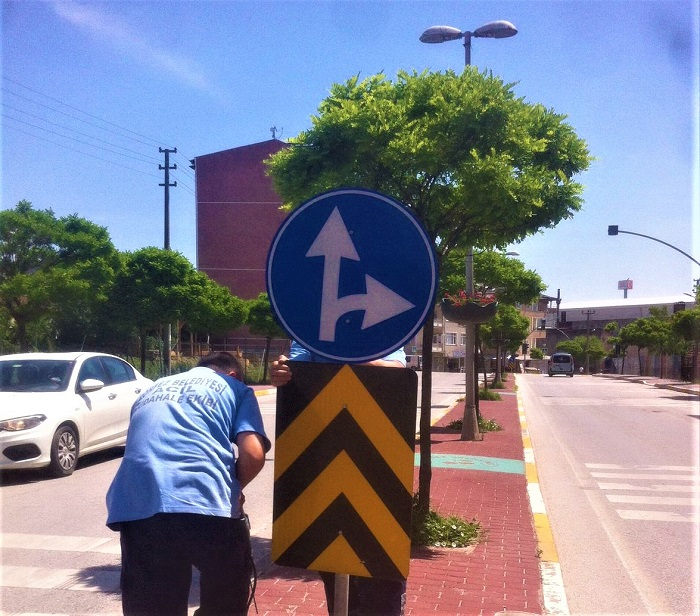ileri_veya_saga: (266, 189, 435, 365)
otomobil: (0, 336, 140, 507)
yaya: (104, 350, 263, 610)
